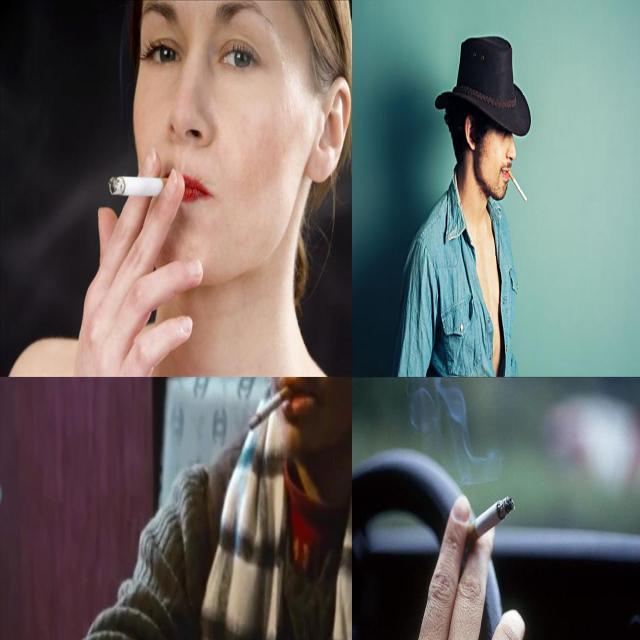smoking: (462, 496, 516, 550), (248, 382, 298, 438), (108, 174, 176, 198), (506, 164, 528, 203)
